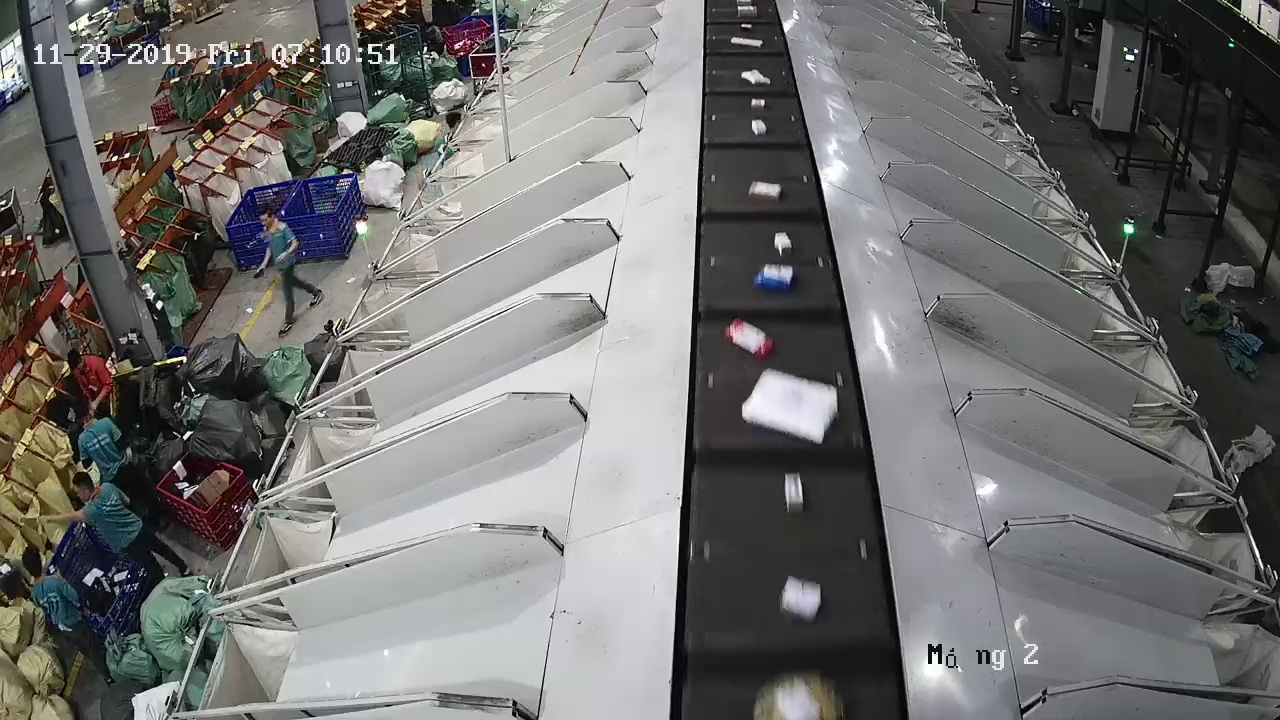parcel: (741, 368, 838, 445), (724, 319, 776, 362), (780, 575, 822, 624), (754, 263, 798, 294), (783, 472, 804, 514), (749, 181, 782, 203), (774, 231, 792, 253), (751, 119, 767, 137)
